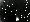person: (18, 9, 25, 21)
